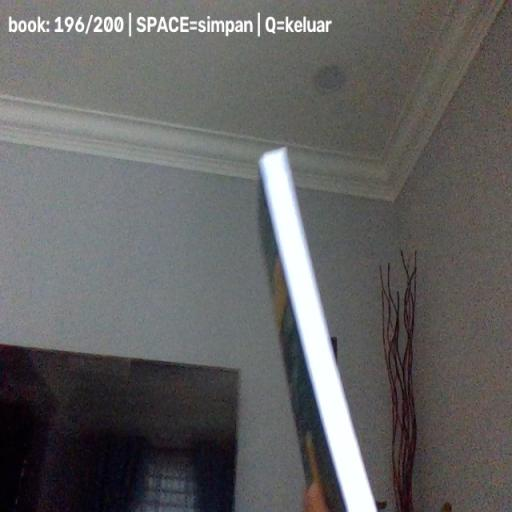Book: (256, 146, 381, 512)
